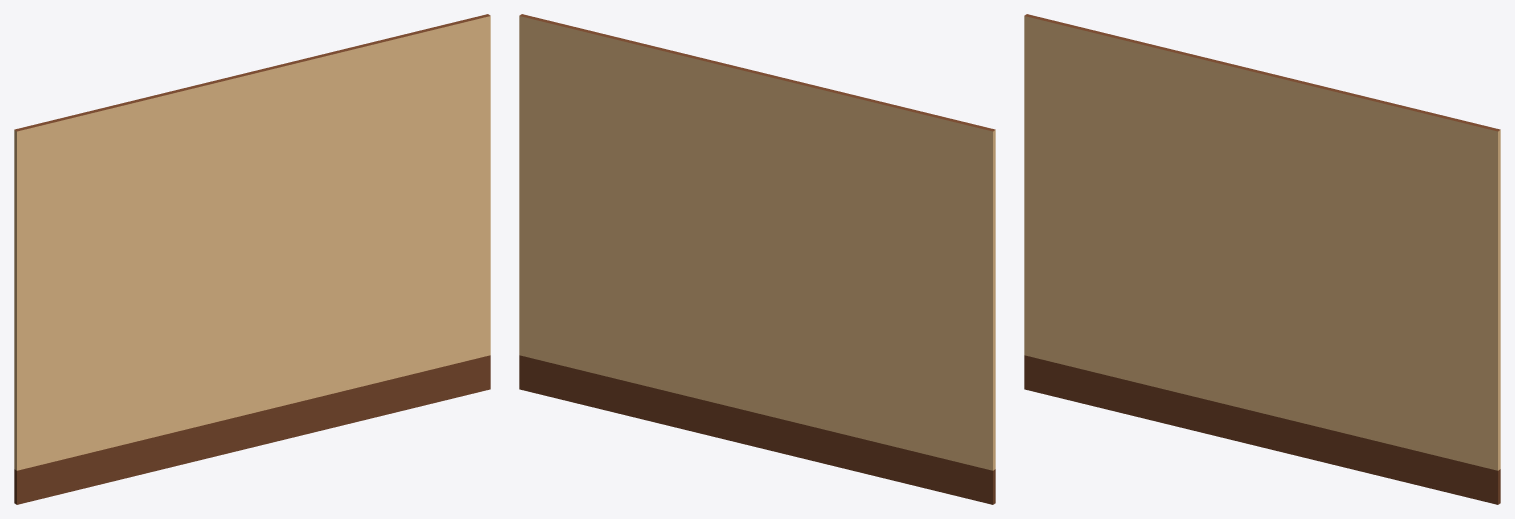
The model's file is wall_connector.fbx.
3 renders of one model, left to right at view 1: azimuth 30°, elevation 25°; view 2: azimuth 150°, elevation 25°; view 3: azimuth 330°, elevation 25°, orthographic.
Visible parts, largest first — view 1: wall_connector_library; view 2: wall_connector_library; view 3: wall_connector_library.
Boxes of the visible parts, bbox=[...] form: wall_connector_library: bbox=[14, 14, 490, 504]; wall_connector_library: bbox=[519, 14, 995, 504]; wall_connector_library: bbox=[1024, 14, 1500, 504].
Bounding box in the file's own units: 816 × 614 × 8.
